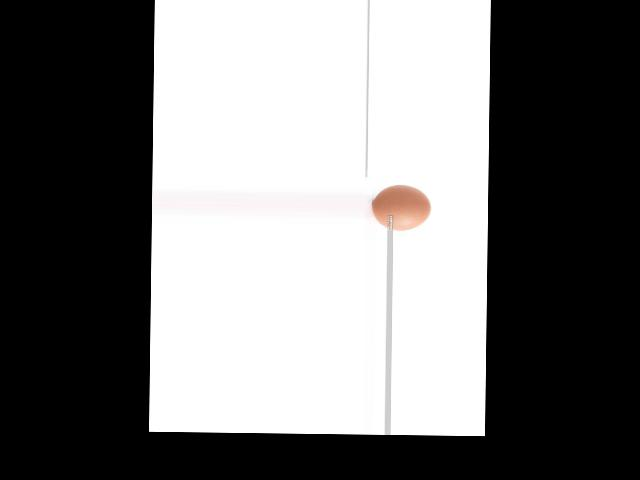egg: (373, 185, 431, 231)
